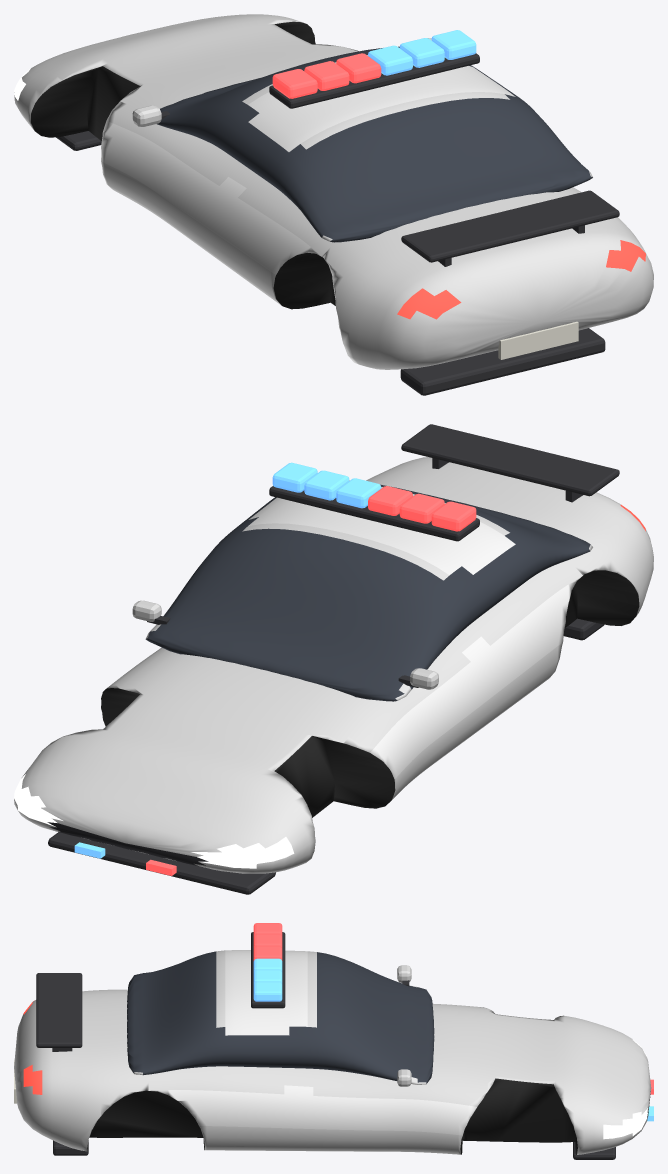
The model's file is police_interceptor.glb.
The picture shows the model from 3 angles, top to bottom: view 1: azimuth 30°, elevation 25°; view 2: azimuth 150°, elevation 25°; view 3: azimuth 270°, elevation 25°; orthographic projection. The views are drawn at different scales.
Visible parts, largest first — view 1: police_interceptor; view 2: police_interceptor; view 3: police_interceptor.
Part boxes in pixels (<box>): police_interceptor: <box>14,14,653,395</box>; police_interceptor: <box>14,424,653,894</box>; police_interceptor: <box>14,923,653,1159</box>.
Size of the model in its own units: 1.86 by 1.27 by 4.46.
